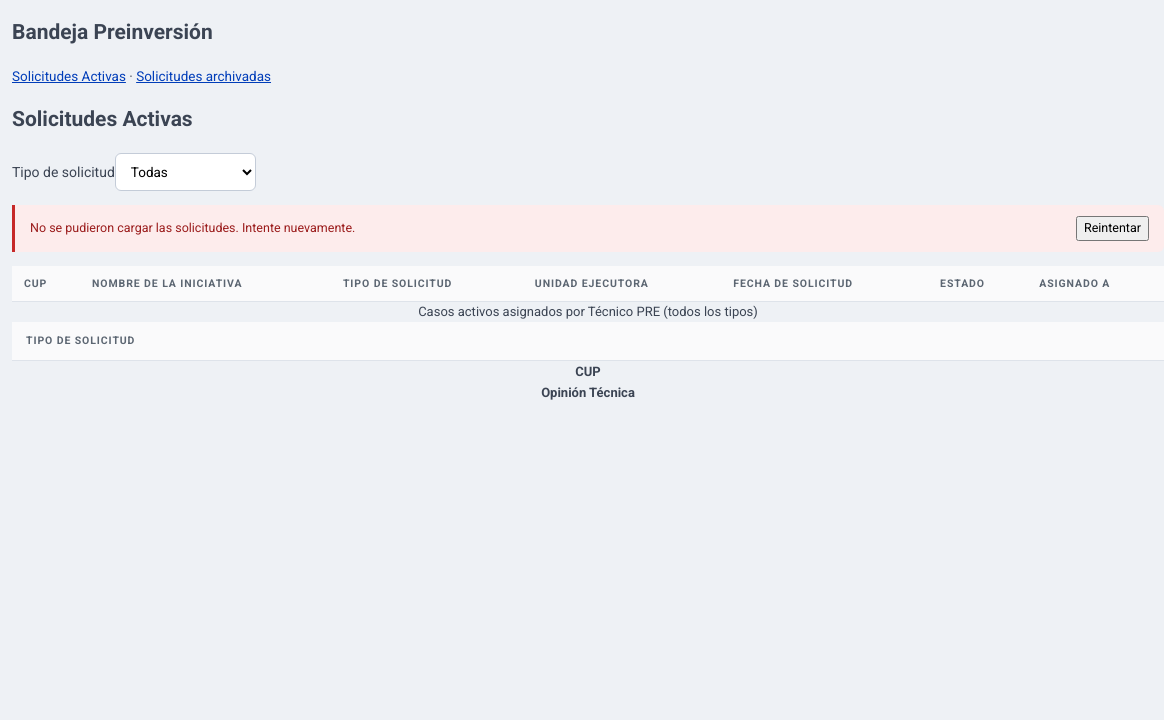
Test: CU-PRE-02 Bandeja Preinversión › distingue error de lista vacía y permite reintentar
expect the message "No se pudieron cargar las solicitudes. Intente nuevamente. Reintentar" is shown: met, box [12,205,1163,252]
Click the button "Reintentar" at (1112, 228), box [1076,216,1149,241]
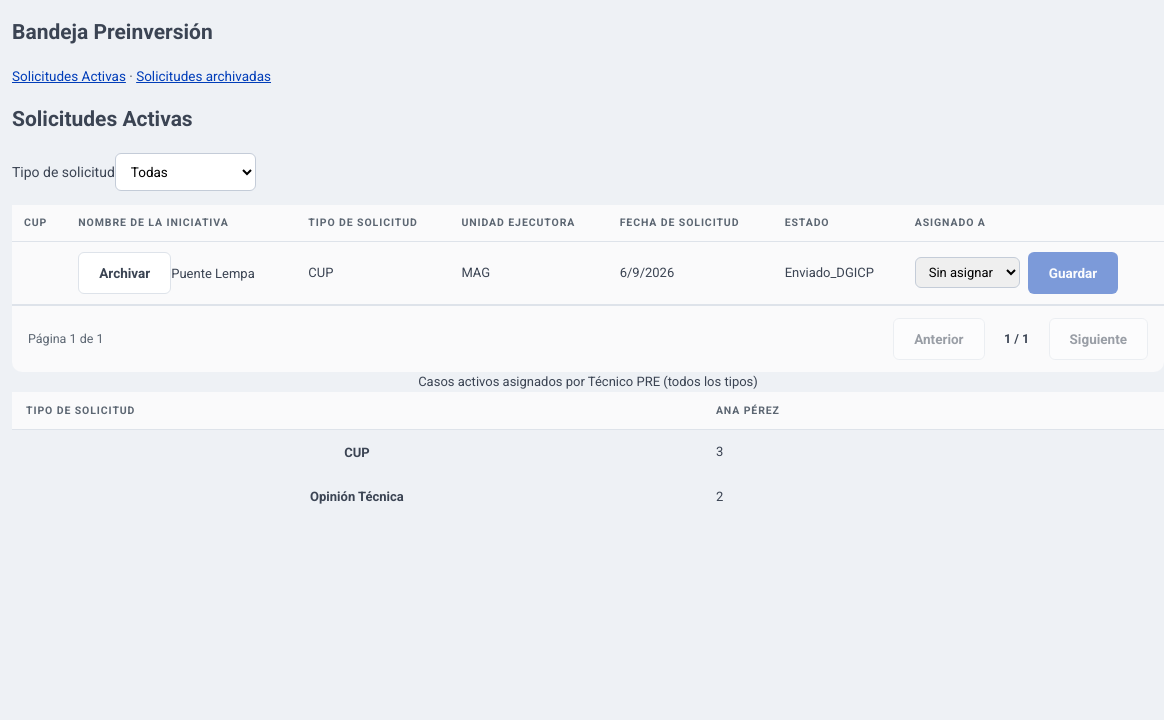
expect the text "Puente Lempa" is shown: met, box [171,266,255,281]
